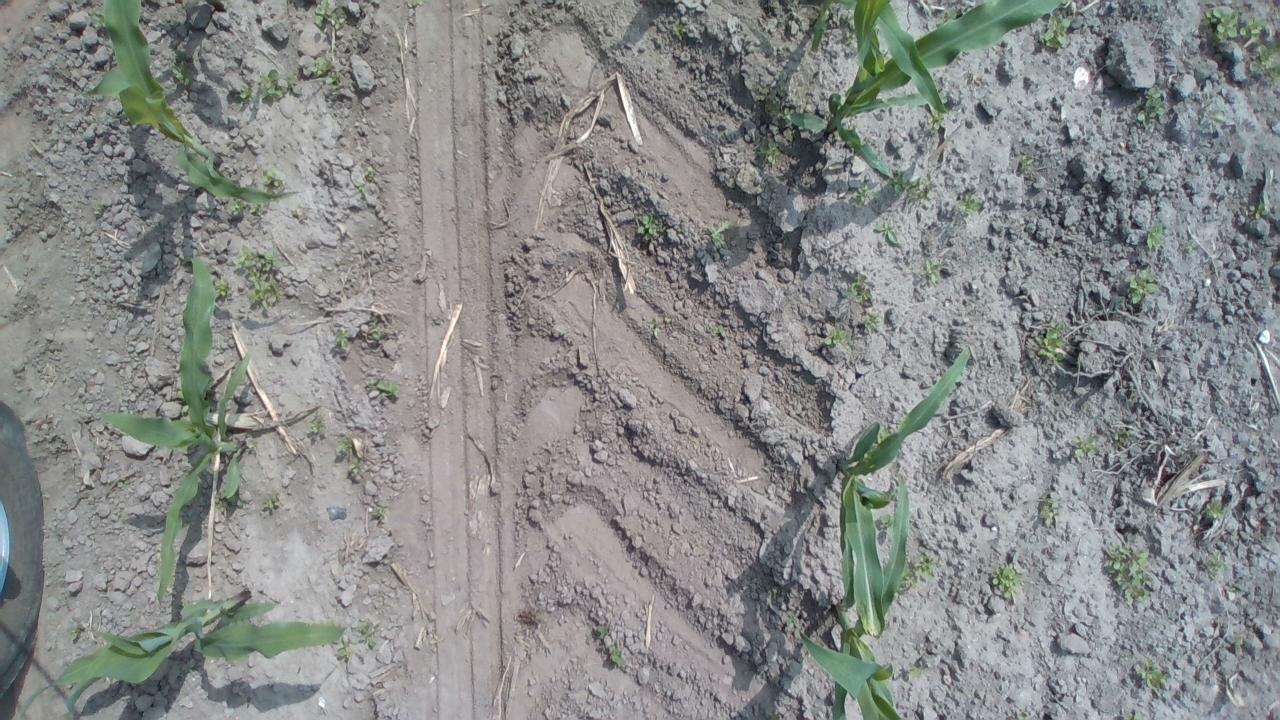Maize: (79, 246, 254, 628), (779, 0, 1068, 187), (16, 576, 362, 718), (822, 344, 978, 640), (59, 0, 270, 216), (790, 478, 919, 720)
Weeds: (1200, 1, 1280, 80), (1098, 543, 1160, 612), (237, 243, 286, 312), (892, 551, 945, 590), (592, 624, 634, 673), (1030, 316, 1068, 363), (987, 560, 1028, 602), (1123, 656, 1170, 692), (890, 170, 932, 210), (1134, 82, 1170, 128), (1122, 266, 1158, 305), (308, 54, 344, 89), (256, 68, 292, 103), (842, 272, 879, 305), (308, 0, 346, 32), (1063, 434, 1103, 463), (172, 48, 198, 92), (1192, 545, 1224, 580), (358, 317, 394, 348), (916, 256, 949, 289), (869, 216, 900, 250), (1041, 12, 1069, 48), (1138, 222, 1171, 252), (364, 375, 400, 402), (257, 164, 288, 195), (634, 212, 660, 247), (354, 162, 378, 199), (858, 308, 886, 339), (328, 325, 356, 356), (820, 324, 852, 351), (922, 100, 948, 133), (754, 136, 782, 166), (1106, 424, 1134, 453), (207, 274, 234, 304), (1036, 495, 1060, 528), (212, 487, 237, 518), (356, 620, 381, 650), (706, 318, 734, 344), (1198, 496, 1224, 523), (956, 192, 985, 216), (261, 488, 286, 515), (711, 219, 732, 250), (231, 195, 262, 216), (300, 409, 324, 436), (640, 315, 670, 336), (331, 433, 356, 458), (334, 634, 355, 663), (235, 79, 258, 104), (368, 500, 388, 527), (64, 622, 85, 645), (1178, 235, 1197, 260), (853, 184, 872, 207), (1019, 152, 1036, 175), (1246, 202, 1268, 219), (668, 22, 686, 42), (348, 461, 368, 478)
